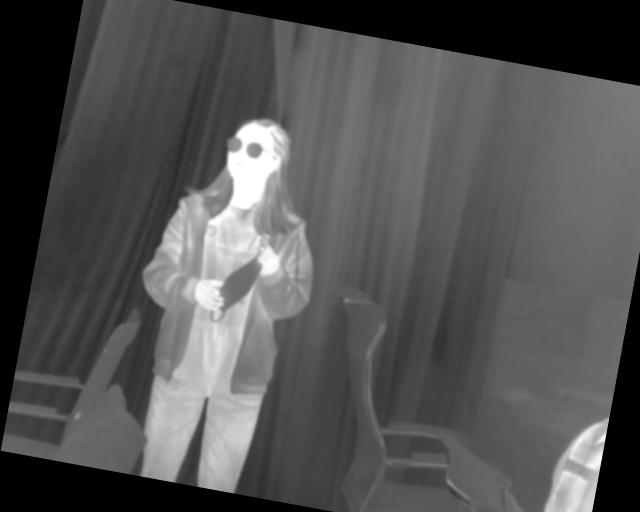face: (410, 338, 533, 472), (272, 296, 370, 402)
